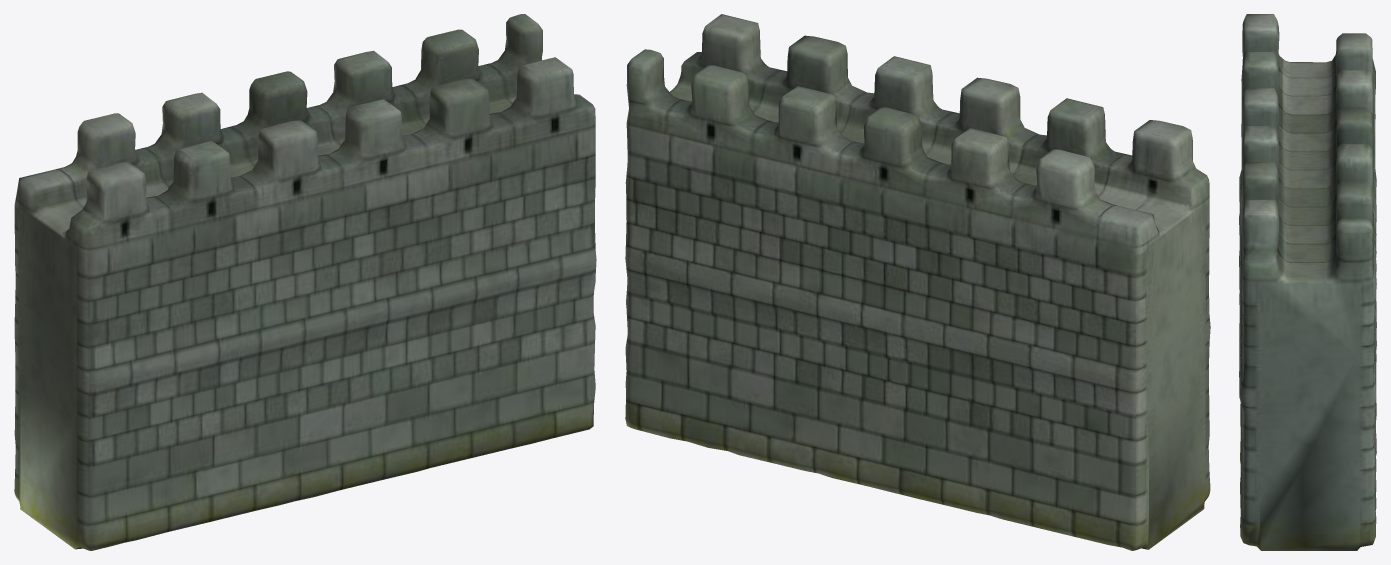
Rendered from city-wall.glb.
3 views of the same model, side by side, from view 1: azimuth 30°, elevation 25°; view 2: azimuth 150°, elevation 25°; view 3: azimuth 270°, elevation 25° (orthographic). The views are drawn at different scales.
Parts seen in each view (by area): view 1: city_wall_lod0; view 2: city_wall_lod0; view 3: city_wall_lod0.
Boxes of the visible parts, x1,y1,x2,y2 form: city_wall_lod0: (14, 14, 596, 550); city_wall_lod0: (625, 14, 1210, 550); city_wall_lod0: (1239, 14, 1376, 550).
Size of the model in its own units: 6 by 4.1 by 1.58.
Materials: 1 (1 with a texture image).
